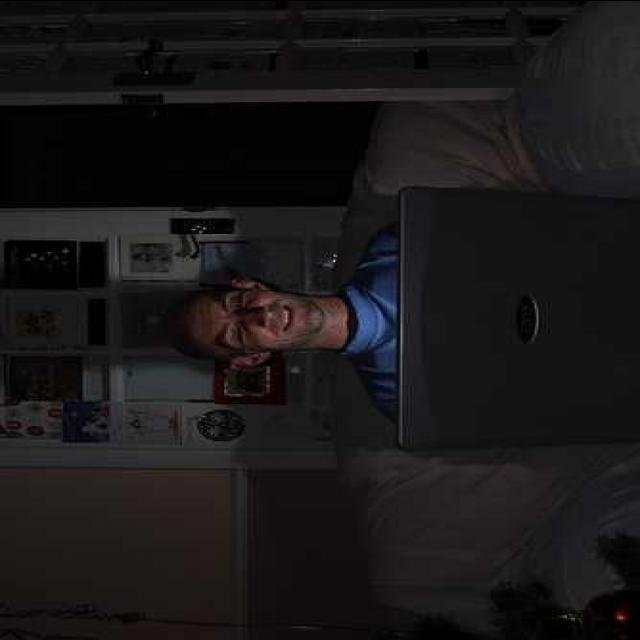laptop: (395, 182, 640, 460)
